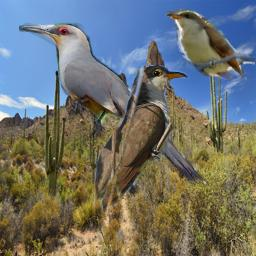Cuckoo: (19, 22, 208, 189), (94, 65, 211, 212), (163, 4, 255, 80)
